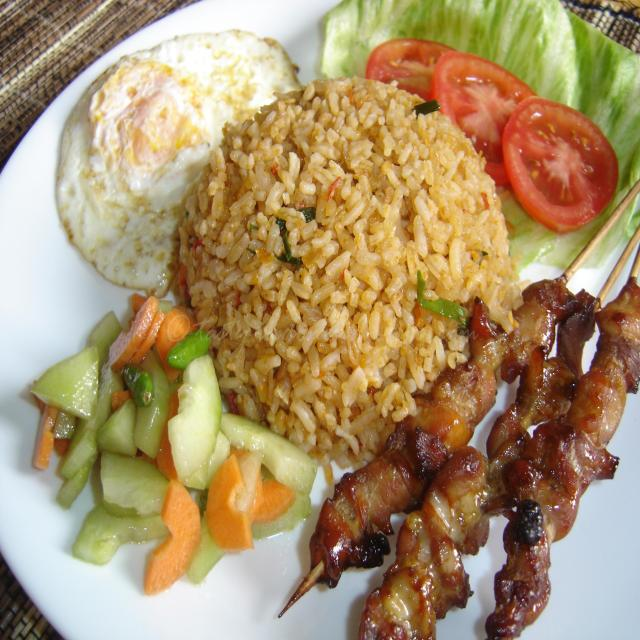Nasi Goreng: (155, 86, 506, 408)
